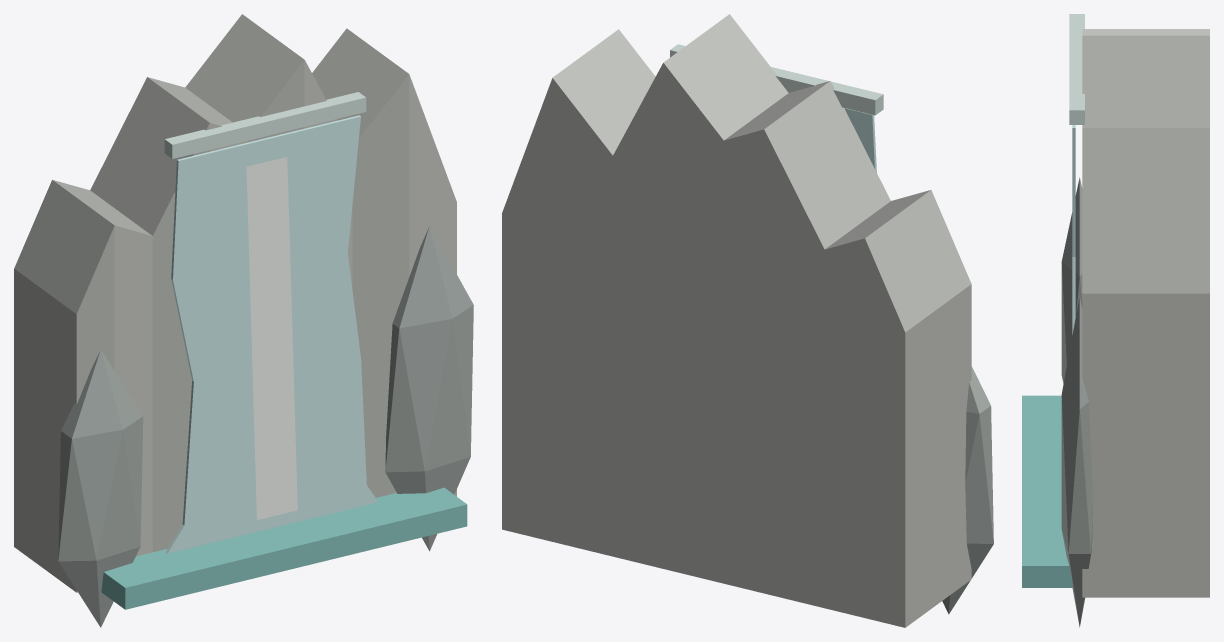
The model's file is north_waterfall_far-ZQnV6tfx.glb.
3 views of the same model, side by side, from view 1: azimuth 30°, elevation 25°; view 2: azimuth 150°, elevation 25°; view 3: azimuth 270°, elevation 25° (orthographic). The views are drawn at different scales.
Visible parts, largest first — view 1: north_waterfall_far; view 2: north_waterfall_far; view 3: north_waterfall_far.
Boxes of the visible parts, left/top/right/bottom form: north_waterfall_far: left=14, top=14, right=473, bottom=627; north_waterfall_far: left=502, top=14, right=993, bottom=627; north_waterfall_far: left=1022, top=14, right=1209, bottom=627.
Bounding box in the file's own units: 21.86 × 26.2 × 8.4.
